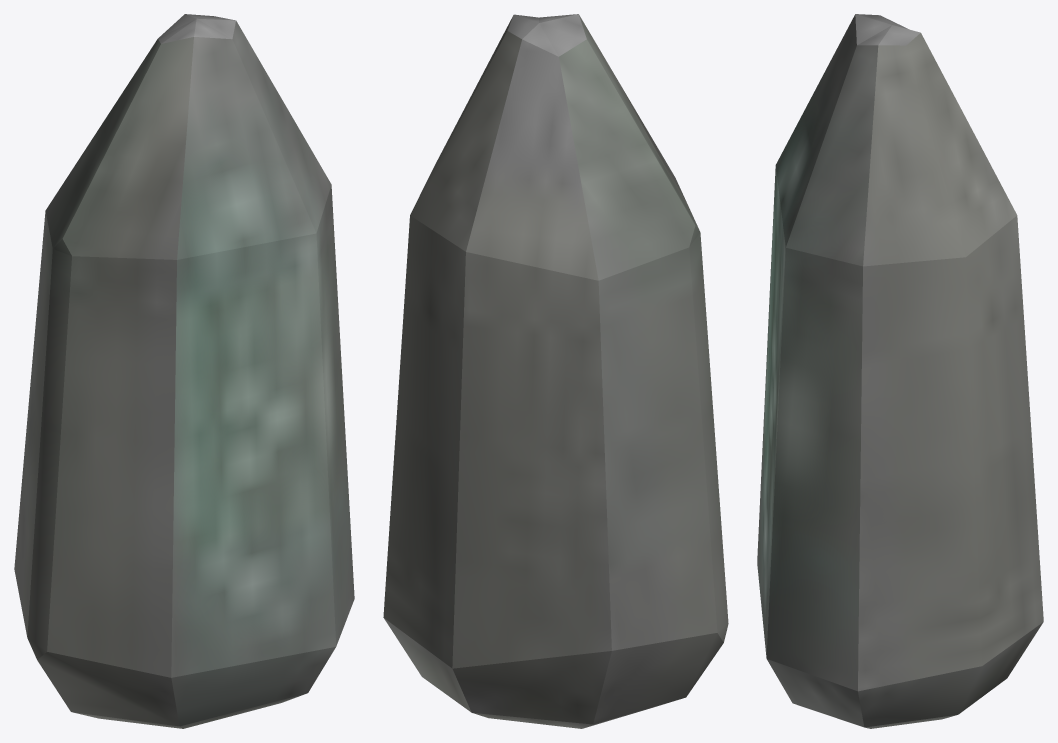
File: sc_rock_6.glb
3 renders of one model, left to right at view 1: azimuth 30°, elevation 25°; view 2: azimuth 150°, elevation 25°; view 3: azimuth 270°, elevation 25°, orthographic.
Parts seen in each view (by area): view 1: 25 · Rune stone – moon; view 2: 25 · Rune stone – moon; view 3: 25 · Rune stone – moon.
Boxes of the visible parts, x1,y1,x2,y2 form: 25 · Rune stone – moon: (14,14,354,728); 25 · Rune stone – moon: (383,14,728,728); 25 · Rune stone – moon: (757,14,1043,728).
Size of the model in its own units: 0.737 by 1.49 by 0.5846.
Materials: 1 (1 with a texture image).
